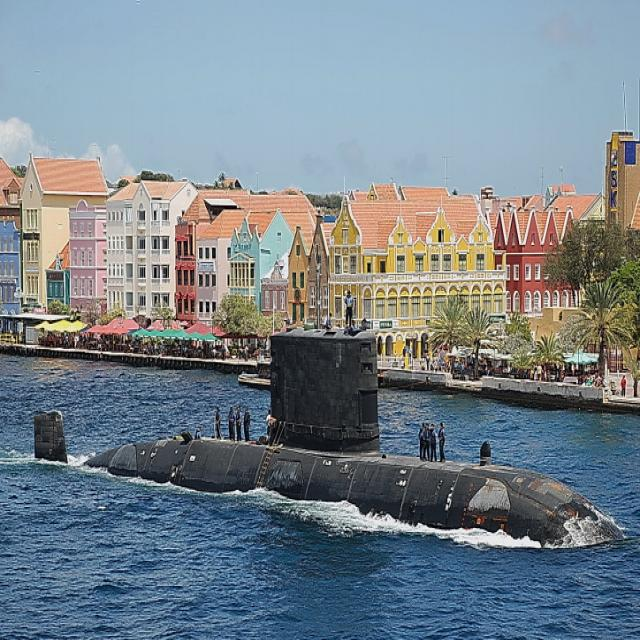submarine: (28, 331, 628, 549)
